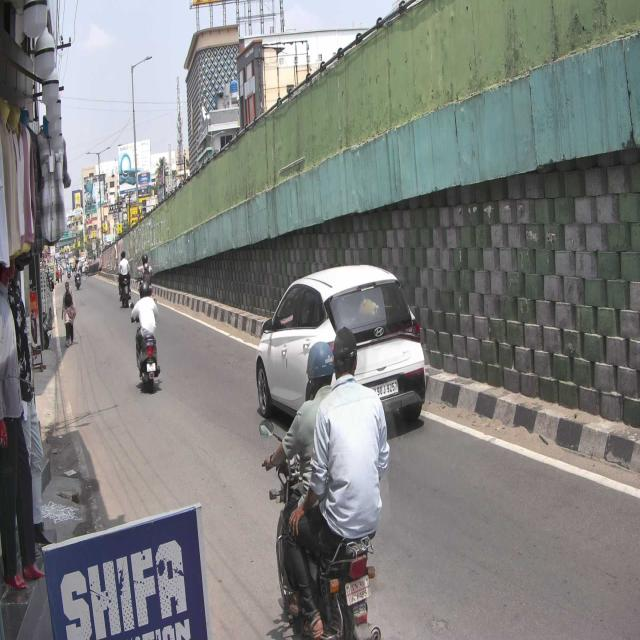double_rider: (264, 326, 392, 640)
